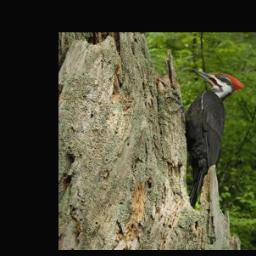Woodpecker: (165, 68, 246, 210)
